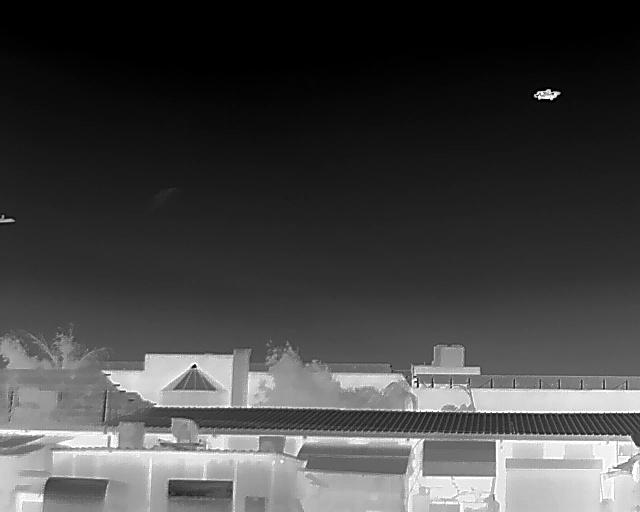fpv-drone: (533, 89, 560, 100)
